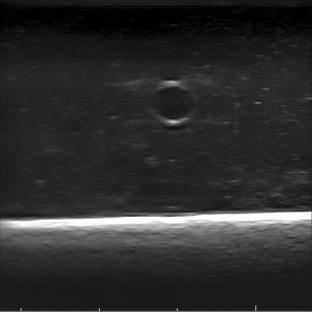vessel: (147, 79, 198, 125)
